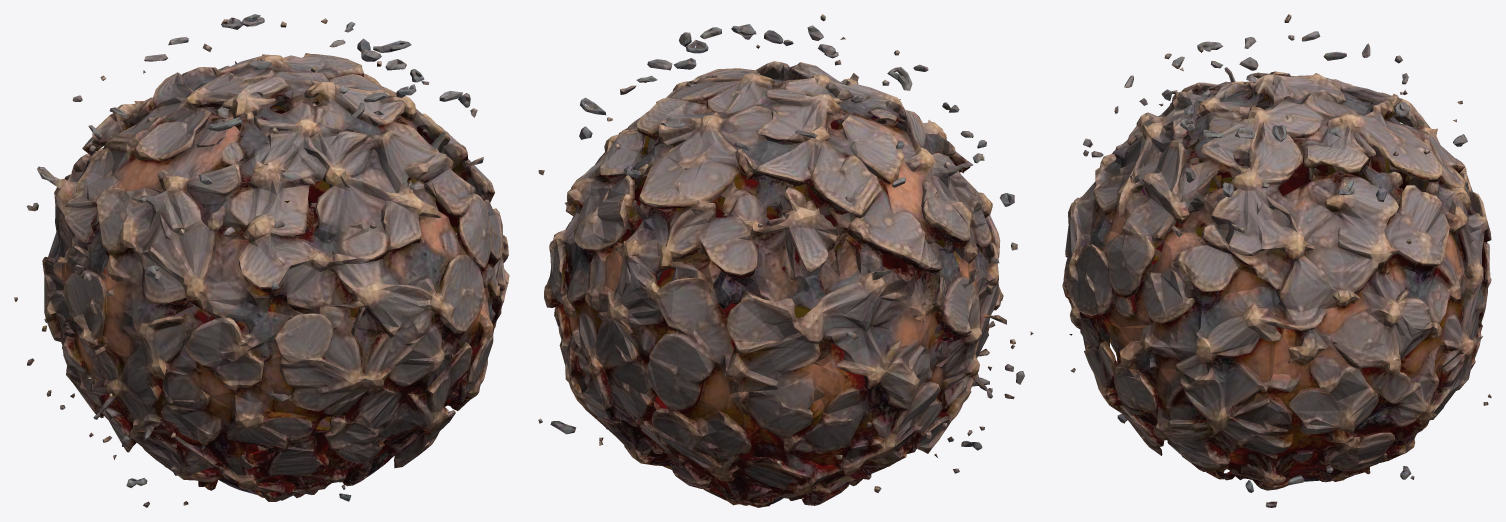
The model's file is cinderMothSwarm.glb.
The picture shows the model from 3 angles, left to right: view 1: azimuth 30°, elevation 25°; view 2: azimuth 150°, elevation 25°; view 3: azimuth 270°, elevation 25°; orthographic projection. The views are drawn at different scales.
Visible parts, largest first — view 1: world; view 2: world; view 3: world.
Part boxes in pixels (x1,y1,x2,y2): world: (14,14,509,507); world: (538,14,1033,507); world: (1062,14,1491,507).
Bounding box in the file's own units: 0.9123 × 0.9595 × 0.8697.
1 material, 1 textured.
